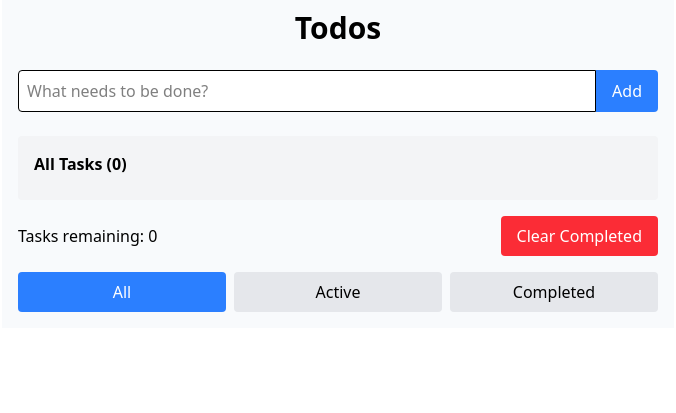
Test: Todos › updates remaining count correctly
In the field with placeholder "What needs to be done?": (307, 91) top-left (18, 70), bottom-right (596, 112), type "Task 1"
Click the button "Add": click(627, 91) top-left (596, 70), bottom-right (658, 112)
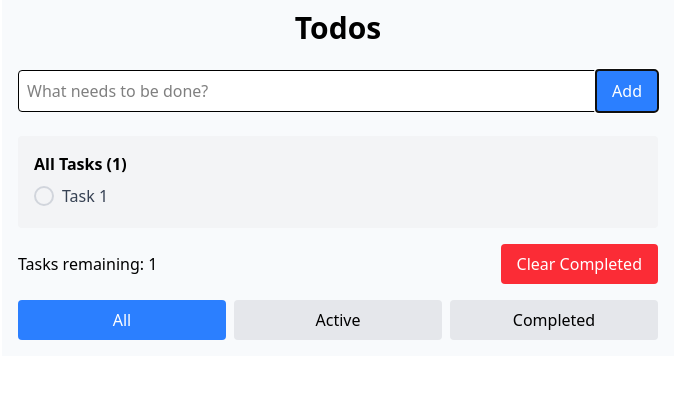
In the field with placeholder "What needs to be done?": (307, 91) top-left (18, 70), bottom-right (596, 112), type "Task 2"
Click the button "Add": click(627, 91) top-left (596, 70), bottom-right (658, 112)
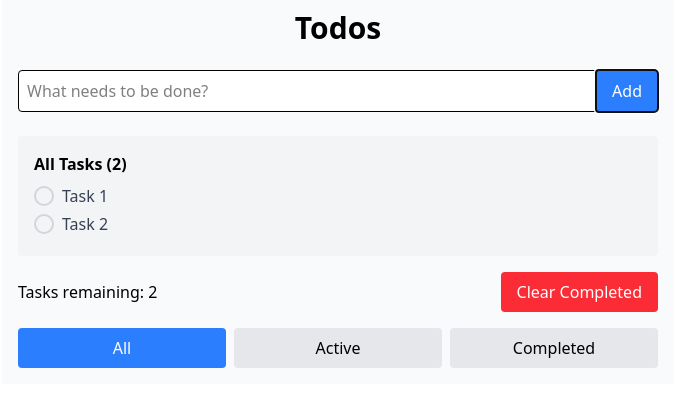
In the field with placeholder "What needs to be done?": (307, 91) top-left (18, 70), bottom-right (596, 112), type "Task 3"
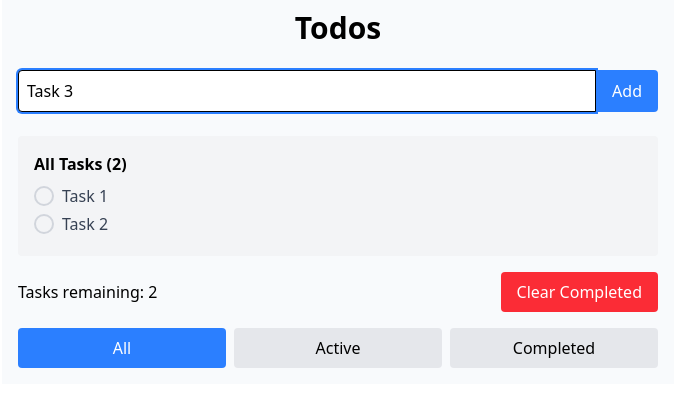
Click the button "Add": click(627, 91) top-left (596, 70), bottom-right (658, 112)
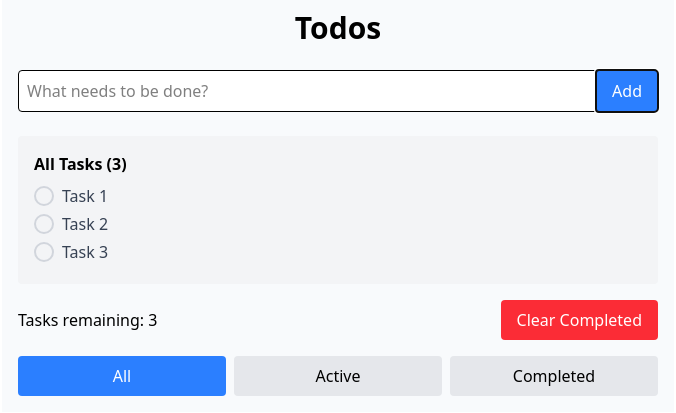
Click the checkbox labelled "Task 1": click(71, 196) top-left (34, 184), bottom-right (108, 208)
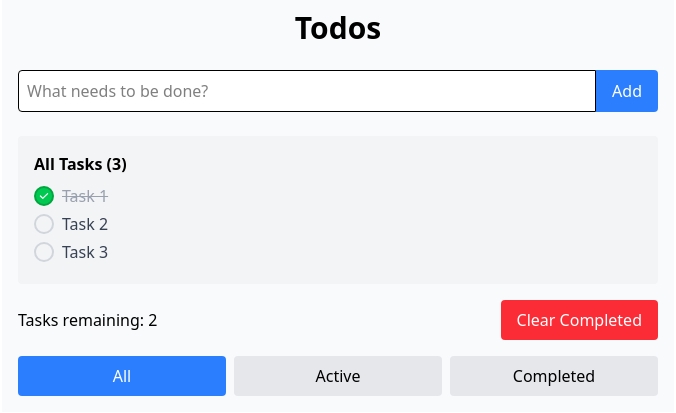
Click the checkbox labelled "Task 2": click(71, 224) top-left (34, 212), bottom-right (108, 236)
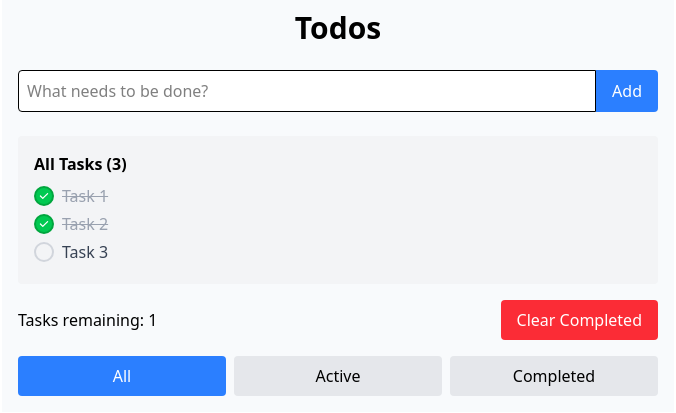
Check: the text "Tasks remaining: 1" is shown, box top-left (18, 308), bottom-right (157, 332)
